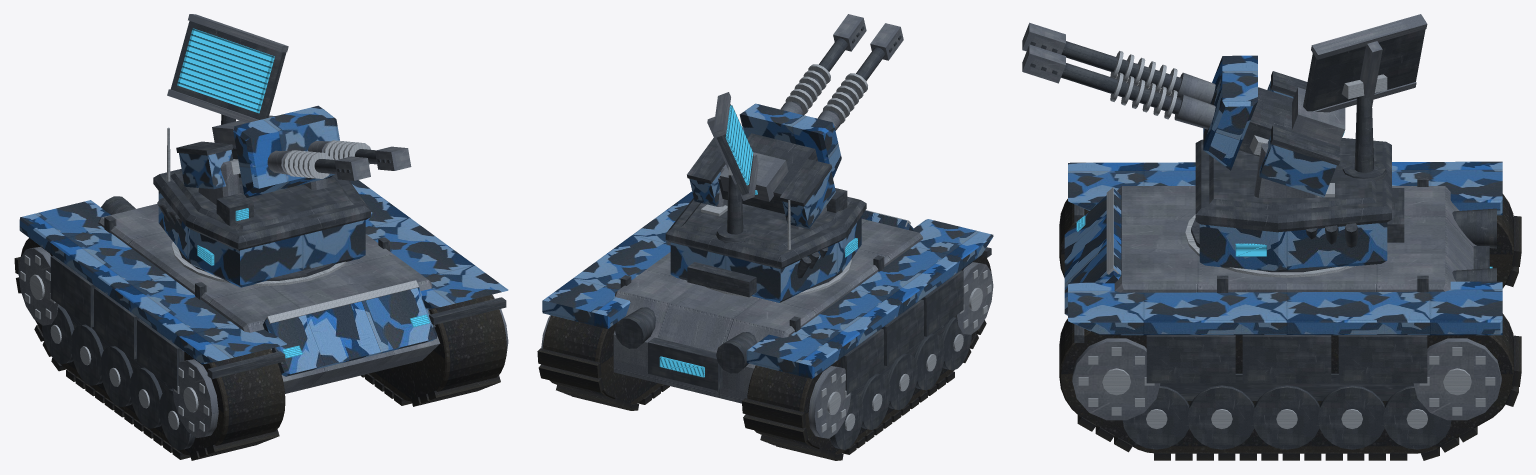
The model's file is halberd-aa-tank.glb.
The picture shows the model from 3 angles, left to right: view 1: azimuth 30°, elevation 25°; view 2: azimuth 150°, elevation 25°; view 3: azimuth 270°, elevation 25°; orthographic projection. The views are drawn at different scales.
Parts seen in each view (by area): view 1: fender, suspension_beam, rear_drive, track_belt, wheel_hub_0, bow_glow; view 2: suspension_beam, fender, rear_drive, track_belt, wheel_hub_0, bow_glow; view 3: suspension_beam, fender, rear_drive, track_belt, wheel_hub_0, bow_glow.
Part boxes in pixels (<box>): fender: <box>19,105,508,376</box>; suspension_beam: <box>41,21,506,450</box>; rear_drive: <box>18,14,508,437</box>; track_belt: <box>14,238,506,460</box>; wheel_hub_0: <box>20,127,418,431</box>; bow_glow: <box>177,28,430,358</box>; suspension_beam: <box>615,26,991,449</box>; fender: <box>542,103,993,378</box>; rear_drive: <box>541,14,993,438</box>; track_belt: <box>537,254,991,460</box>; wheel_hub_0: <box>701,64,991,432</box>; bow_glow: <box>659,105,857,377</box>; suspension_beam: <box>1030,29,1496,449</box>; fender: <box>1064,55,1502,335</box>; rear_drive: <box>1022,14,1501,420</box>; track_belt: <box>1059,194,1521,460</box>; wheel_hub_0: <box>1078,51,1495,428</box>; bow_glow: <box>1076,132,1492,268</box>.
Size of the model in its own units: 5.38 by 5.58 by 6.98.
6 materials, 6 textured.
